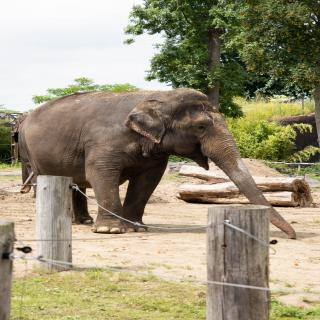Elephant: (15, 86, 303, 243)
